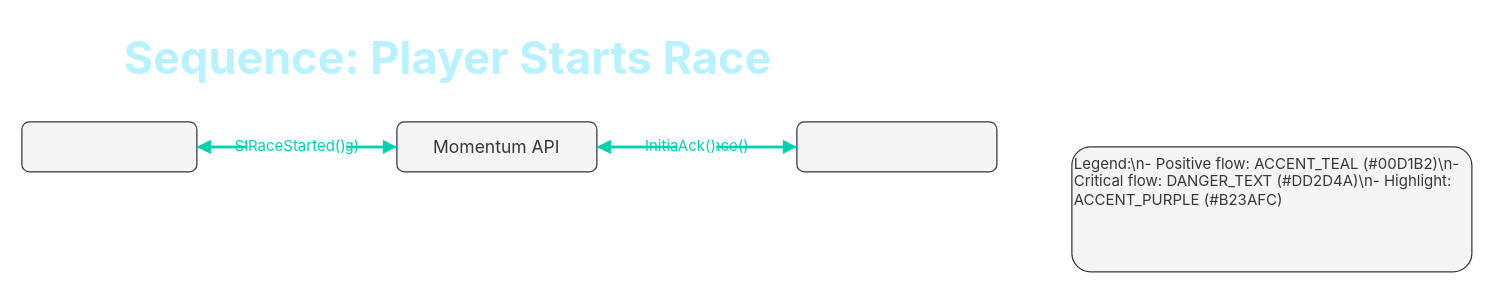
Image size: 1494x294. Some labels were removed from this diagram. Here are the shapes that lost their labels. From the top down, the centre of each, then its label:
At (x=109, y=146): "Player".
At (x=896, y=146): "Race Engine".
